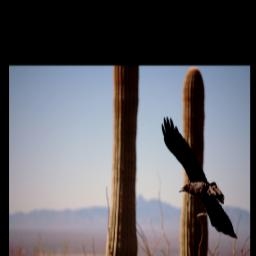Crow: (160, 115, 239, 241)
